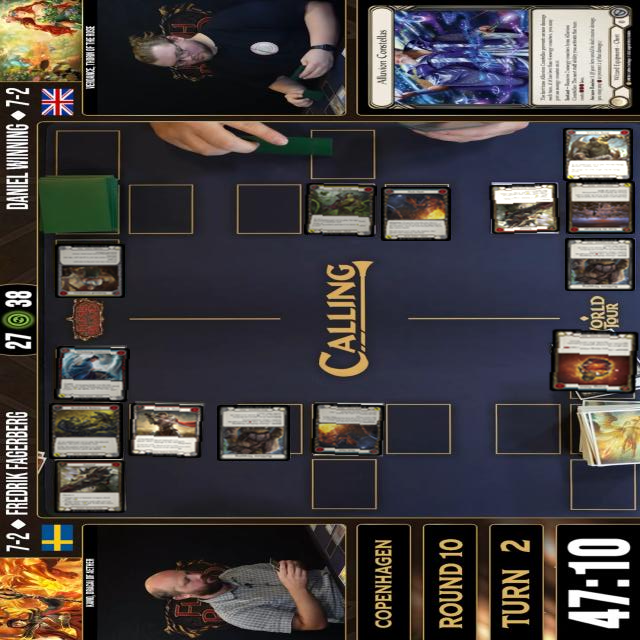Barkbone_Strapping_WTR005: (218, 404, 290, 460), (565, 238, 635, 290)
Breakneck_Battery_WTR011: (49, 402, 123, 459)
Energy_Potion_WTR170: (548, 328, 640, 395)
Pack_Hunt_WTR025: (310, 401, 386, 457), (381, 186, 451, 241)
Pummel_WTR206: (54, 458, 126, 513), (488, 181, 561, 235)
Savage_Feast_WTR015: (305, 182, 378, 236)
Scour_the_Battlescape_WTR196: (567, 181, 636, 234)
Steelblade_Shunt_WTR126: (127, 401, 205, 458)
Stonewall_Confidence_WTR073: (55, 243, 125, 297)
Whelming_Gustwave_WTR112: (54, 345, 130, 401)
Wrecker_Romp_WTR031: (563, 128, 633, 180)
